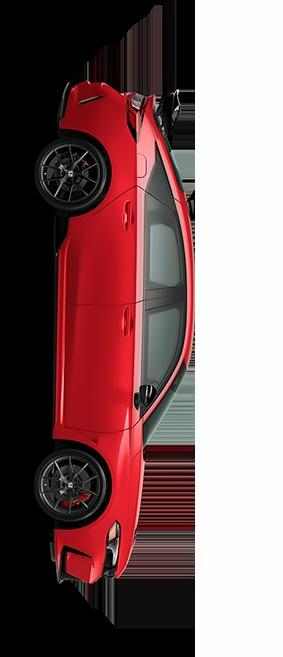Driver-s door - -F-R-: (40, 297, 198, 436)
Fender - -F-R-: (58, 417, 149, 505)
Fender - -R-R-: (52, 113, 167, 209)
Front bumper: (47, 523, 105, 589)
Headlight - -R-: (102, 521, 120, 579)
Passenger-s door - -R-R-: (42, 190, 191, 309)
Rear bumper: (53, 78, 127, 137)
Rear light - -R-: (124, 94, 151, 143)
Side bumper - -R-: (46, 211, 81, 451)
Side mirror - -R-: (128, 384, 157, 412)
